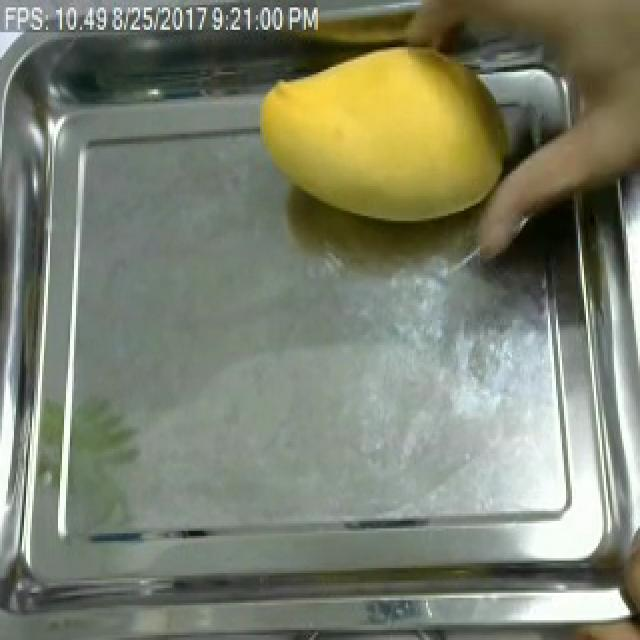fruit: (246, 34, 520, 240), (388, 0, 640, 149)
